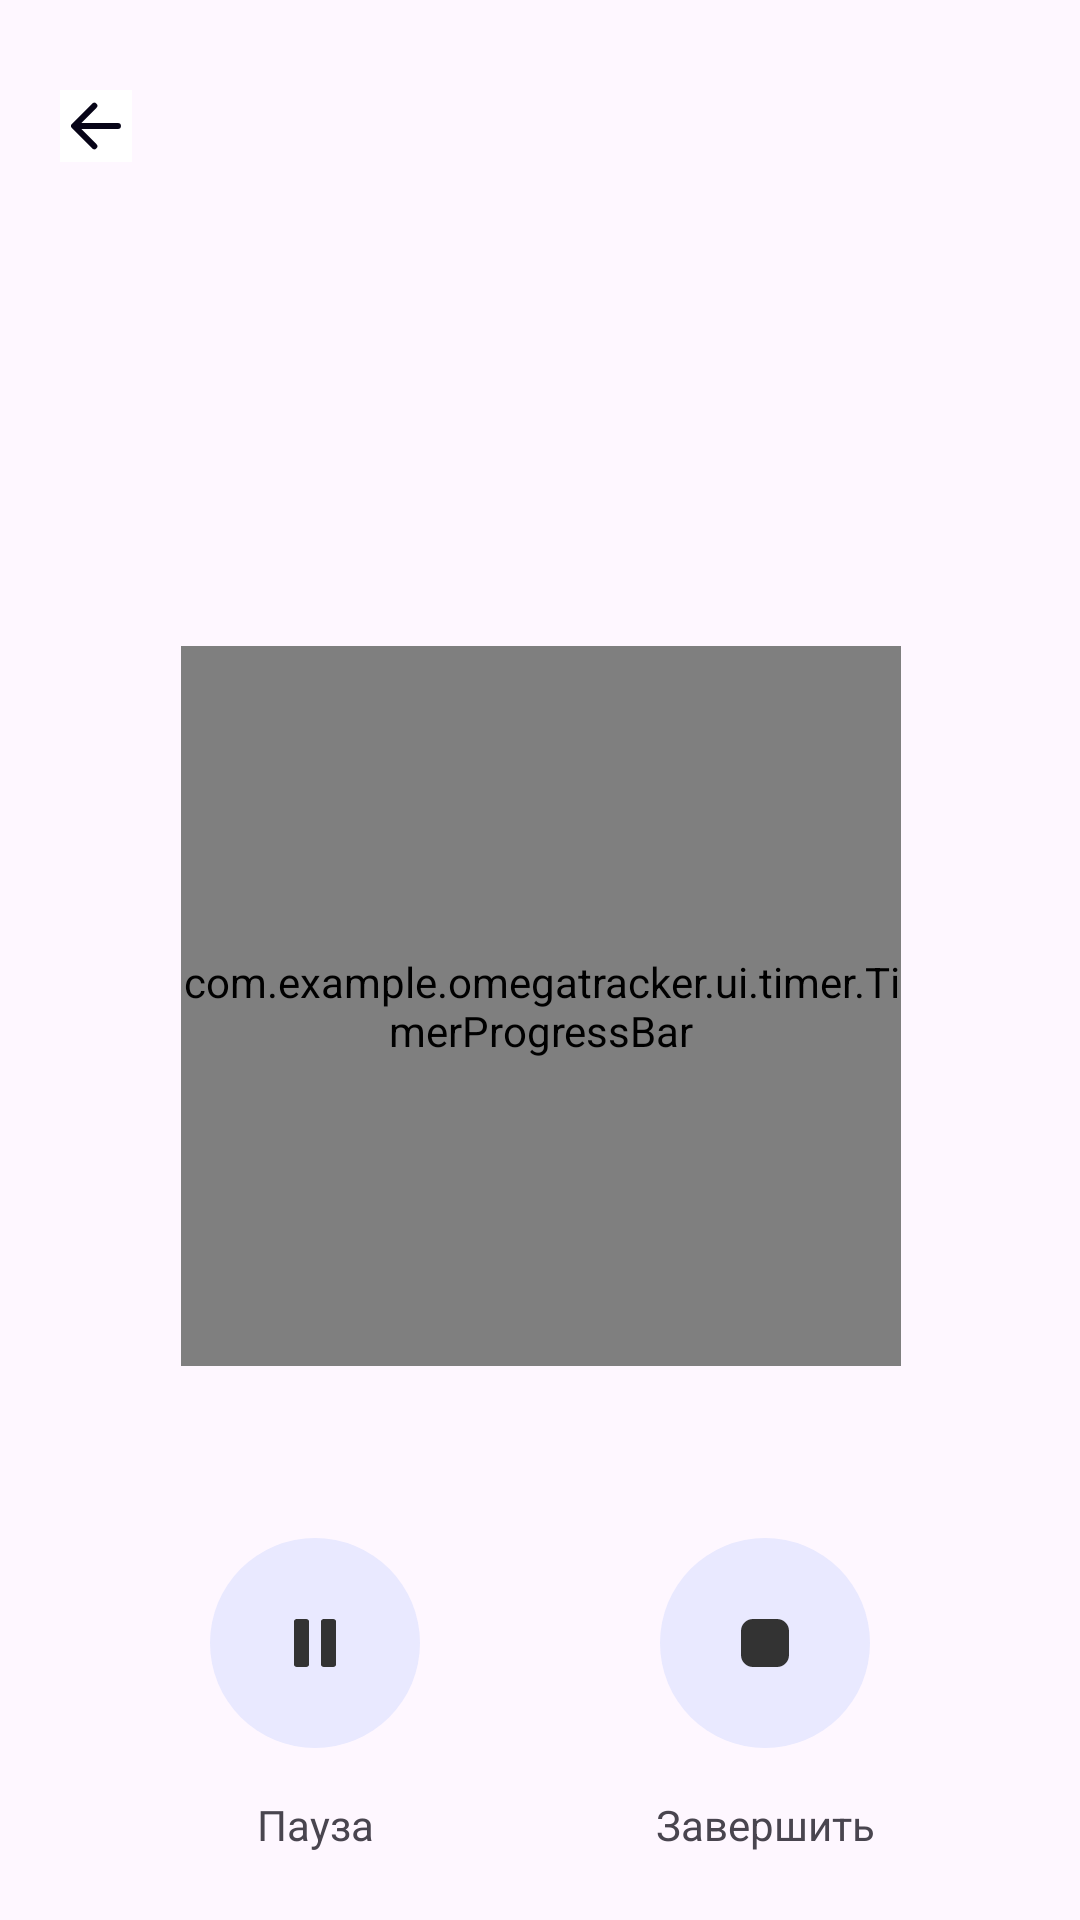

Icons on this 1080*1920 Android screen, each with the point to tap as (x,y):
arrow back: (96,126)
pause timer: (315,1643)
stop timer: (765,1643)
